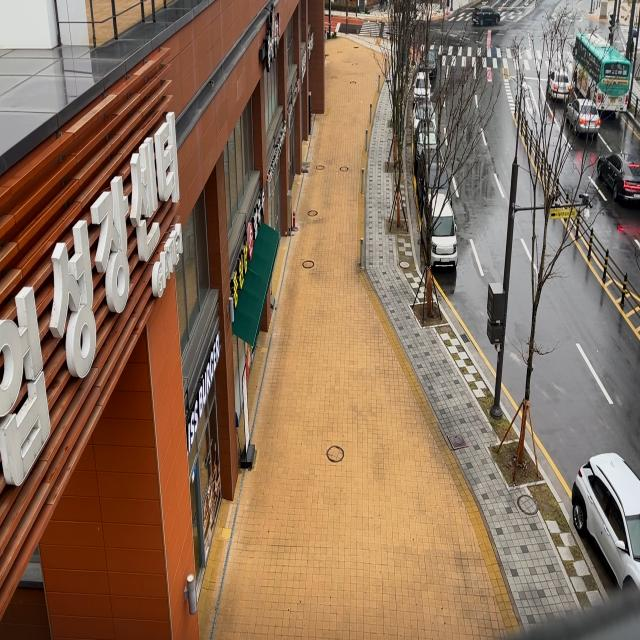Bus: (570, 25, 636, 123)
Car: (569, 448, 639, 590), (417, 191, 461, 266), (595, 144, 640, 208), (415, 140, 453, 207), (562, 88, 602, 142), (544, 58, 575, 103), (413, 120, 443, 155), (470, 0, 502, 32), (411, 100, 445, 128), (415, 46, 441, 76), (409, 75, 436, 102)
